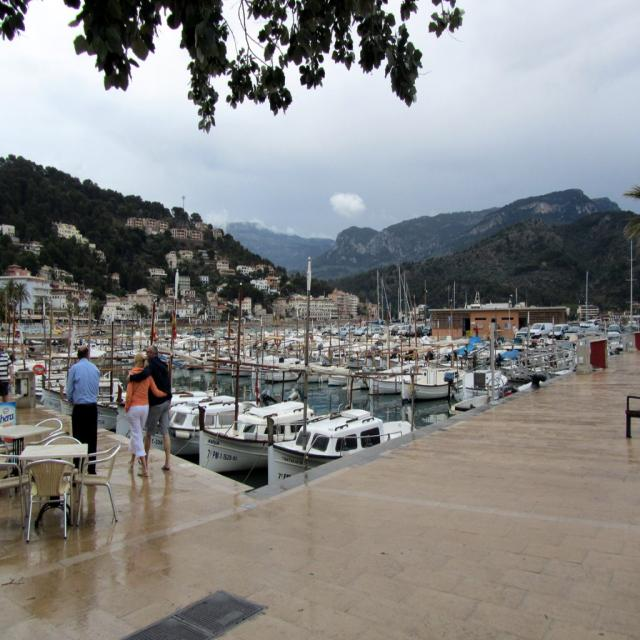Boat: (0, 231, 640, 487), (264, 256, 414, 483)
